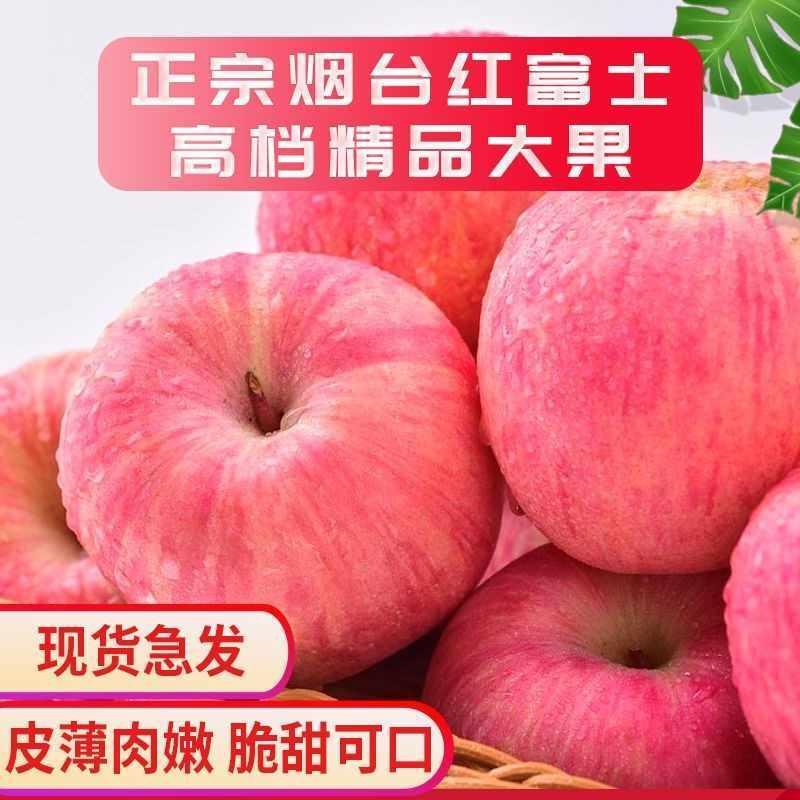apple: (60, 254, 500, 676), (484, 161, 800, 573), (425, 543, 779, 790), (3, 354, 136, 606)
